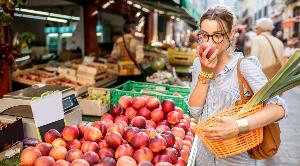peach: (27, 95, 194, 166)
